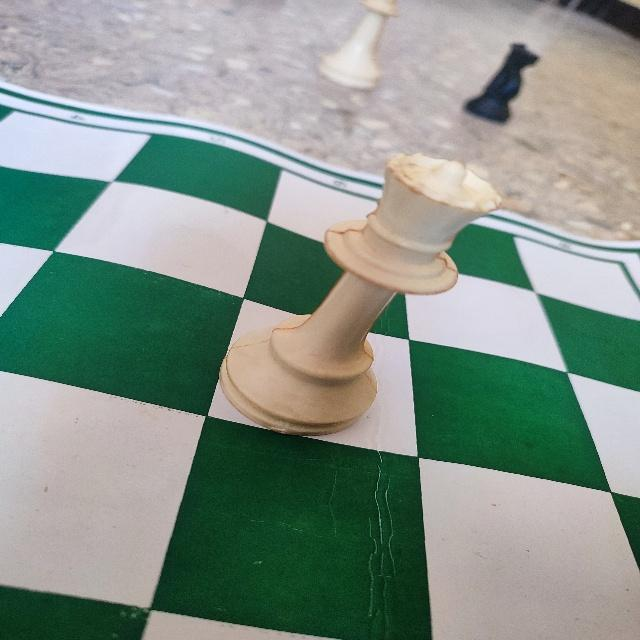Queen: (217, 150, 506, 444)
